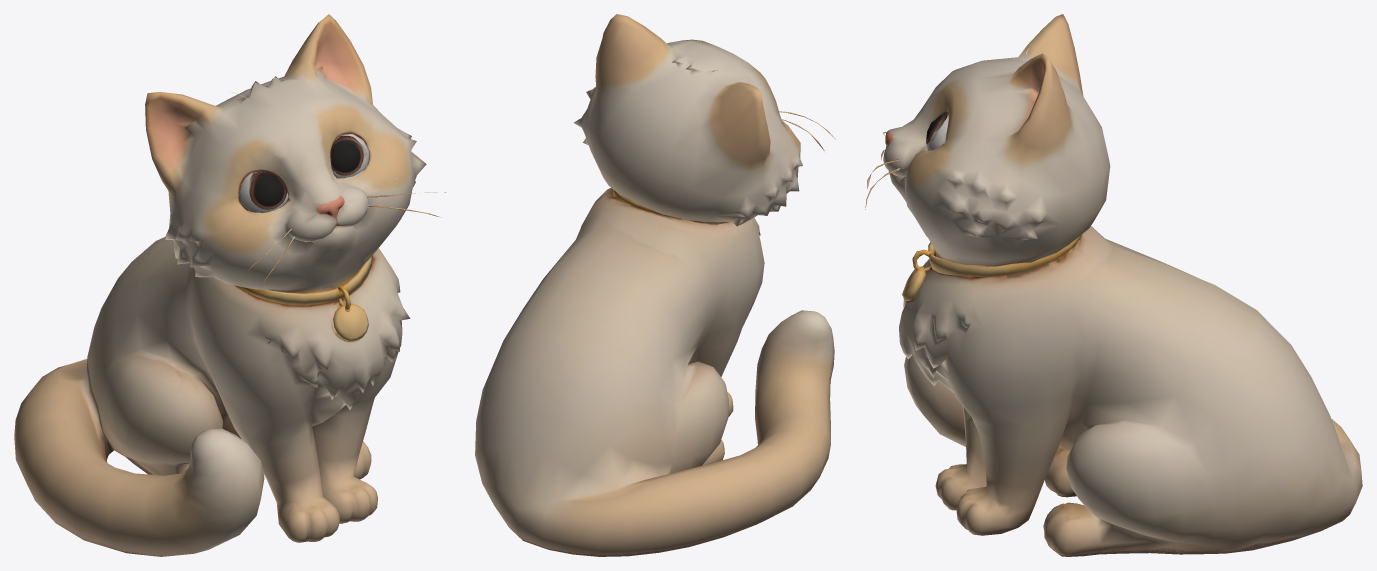
File: mochi.glb
The picture shows the model from 3 angles, left to right: view 1: azimuth 30°, elevation 25°; view 2: azimuth 150°, elevation 25°; view 3: azimuth 270°, elevation 25°; orthographic projection. The views are drawn at different scales.
Parts seen in each view (by area): view 1: Ivory Pendant Cat; view 2: Ivory Pendant Cat; view 3: Ivory Pendant Cat.
Part boxes in pixels (left/top/right/bottom): Ivory Pendant Cat: left=14, top=14, right=445, bottom=556; Ivory Pendant Cat: left=475, top=14, right=835, bottom=556; Ivory Pendant Cat: left=865, top=14, right=1362, bottom=556.
Size of the model in its own units: 0.7168 by 0.998 by 0.9277.
Materials: 1 (1 with a texture image).
